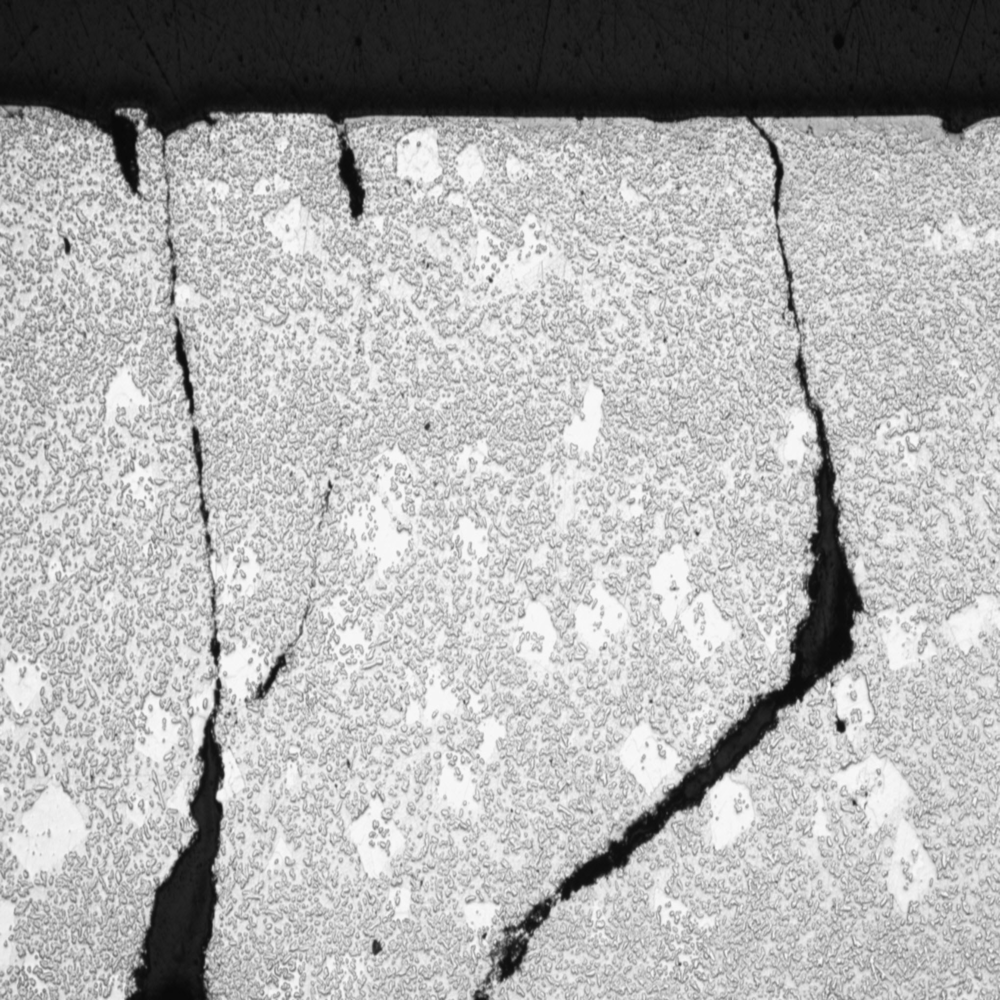crack: (458, 118, 881, 992), (90, 105, 237, 1000), (309, 88, 396, 242)
